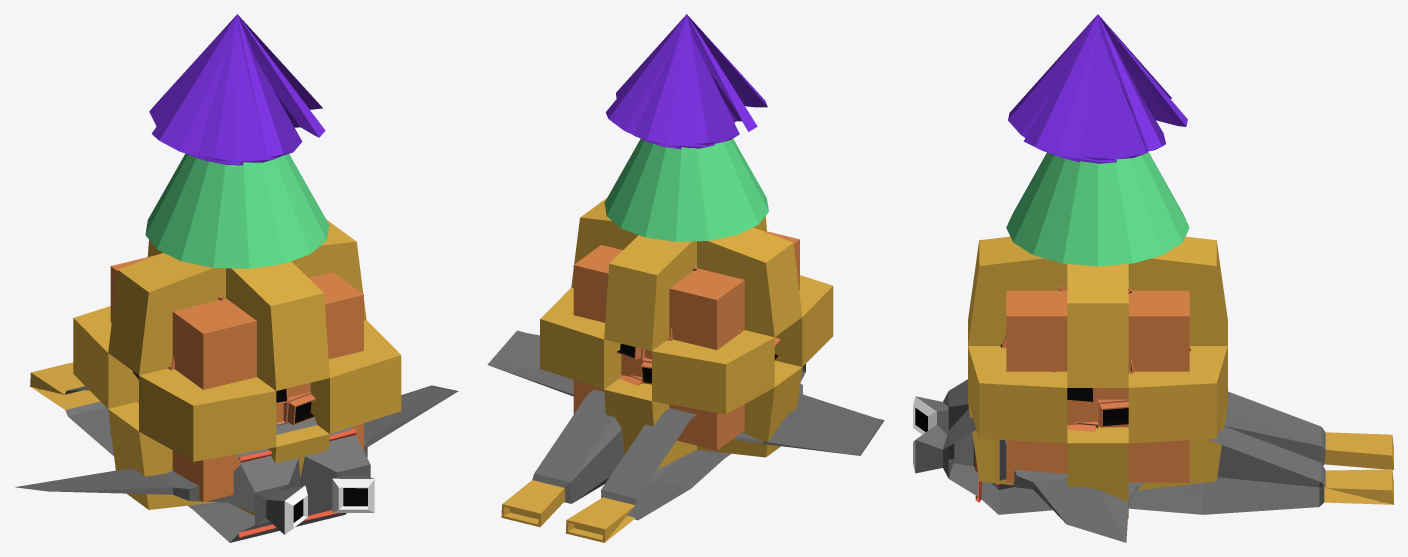
File: enemies.fbx
3 views of the same model, side by side, from view 1: azimuth 30°, elevation 25°; view 2: azimuth 150°, elevation 25°; view 3: azimuth 270°, elevation 25° (orthographic). The views are drawn at different scales.
Visible parts, largest first — view 1: tank, wizard, flying, speedies; view 2: tank, wizard, flying, speedies; view 3: tank, wizard, flying, speedies.
Part boxes in pixels (<box>): tank: <box>73,219,401,515</box>; wizard: <box>145,14,329,268</box>; flying: <box>15,362,458,542</box>; speedies: <box>132,294,315,425</box>; tank: <box>540,198,833,469</box>; wizard: <box>604,14,768,241</box>; flying: <box>487,330,884,542</box>; speedies: <box>616,265,780,385</box>; tank: <box>968,236,1227,518</box>; wizard: <box>1006,14,1189,266</box>; flying: <box>913,379,1393,542</box>; speedies: <box>1000,285,1191,431</box>.
Size of the model in its own units: 2.6 by 2.84 by 2.62.
